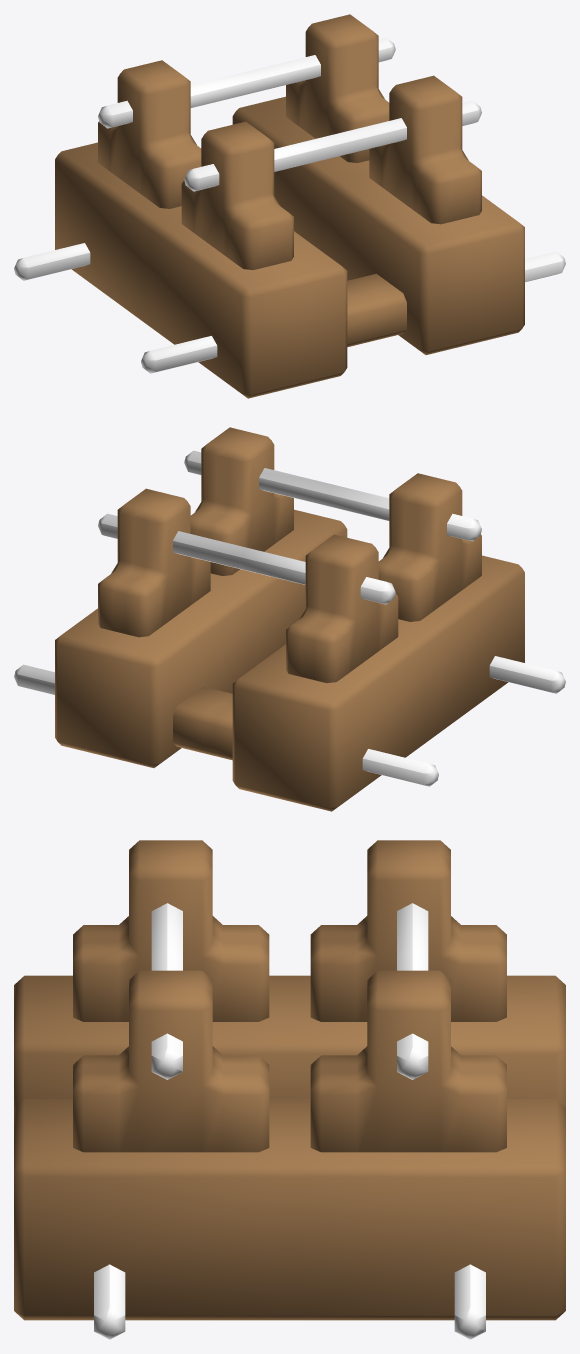
The model's file is chassis.001.glb.
3 renders of one model, top to bottom at view 1: azimuth 30°, elevation 25°; view 2: azimuth 150°, elevation 25°; view 3: azimuth 270°, elevation 25°, orthographic. The views are drawn at different scales.
Parts seen in each view (by area): view 1: chassis.001; view 2: chassis.001; view 3: chassis.001.
Part boxes in pixels (x1,y1,x2,y2): chassis.001: (14, 14, 565, 398); chassis.001: (14, 427, 565, 811); chassis.001: (14, 840, 565, 1339).
Bounding box in the file's own units: 3.29 × 1.63 × 2.64.
